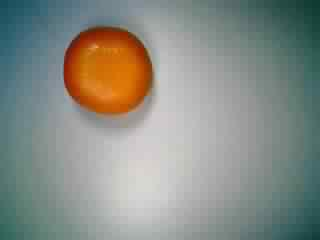orange: (61, 20, 154, 117)
